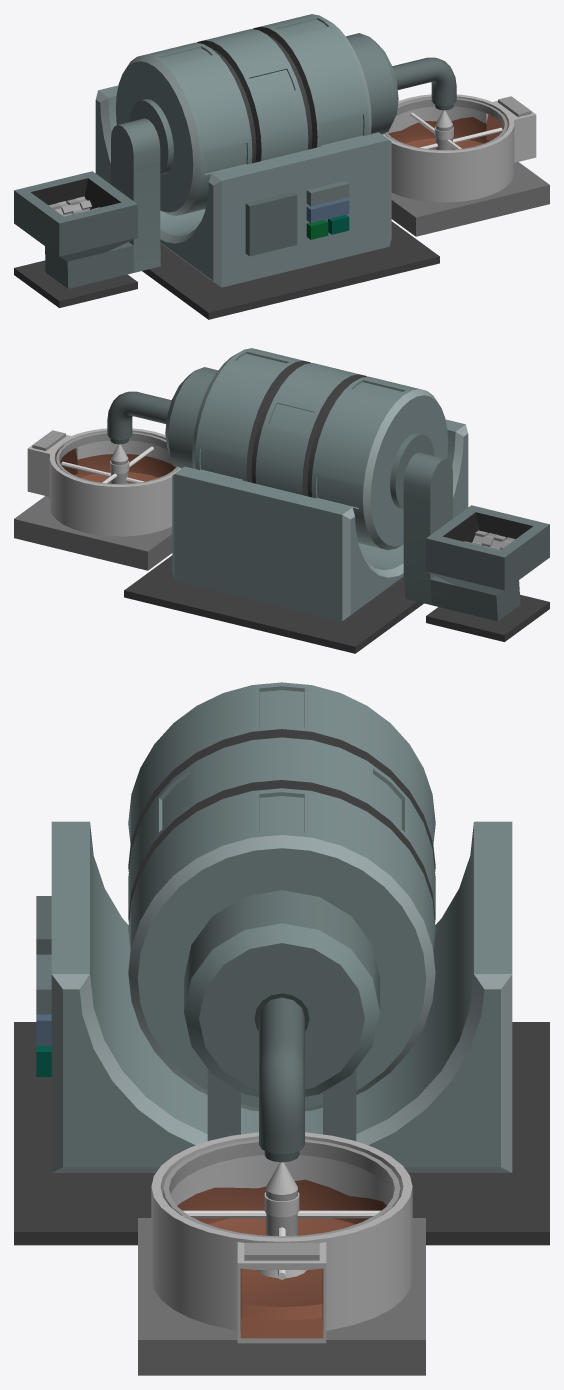
Rendered from mech_1_unlockAnim.fbx.
The picture shows the model from 3 angles, top to bottom: view 1: azimuth 30°, elevation 25°; view 2: azimuth 150°, elevation 25°; view 3: azimuth 270°, elevation 25°; orthographic projection. The views are drawn at different scales.
Parts seen in each view (by area): view 1: mech_1_lv1.001; view 2: mech_1_lv1.001; view 3: mech_1_lv1.001.
Boxes of the visible parts, left/top/right/bottom form: mech_1_lv1.001: left=14, top=14, right=549, bottom=319; mech_1_lv1.001: left=14, top=348, right=549, bottom=653; mech_1_lv1.001: left=14, top=682, right=549, bottom=1375.
Bounding box in the file's own units: 455 × 179 × 233.
